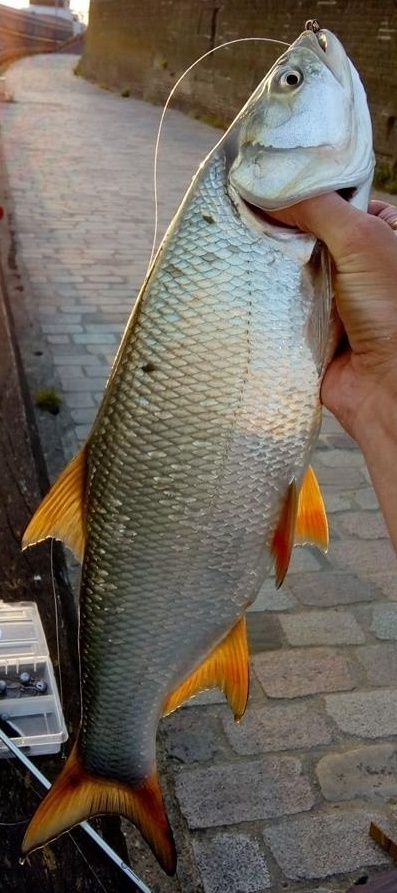Aspius aspius: (20, 20, 377, 873)
